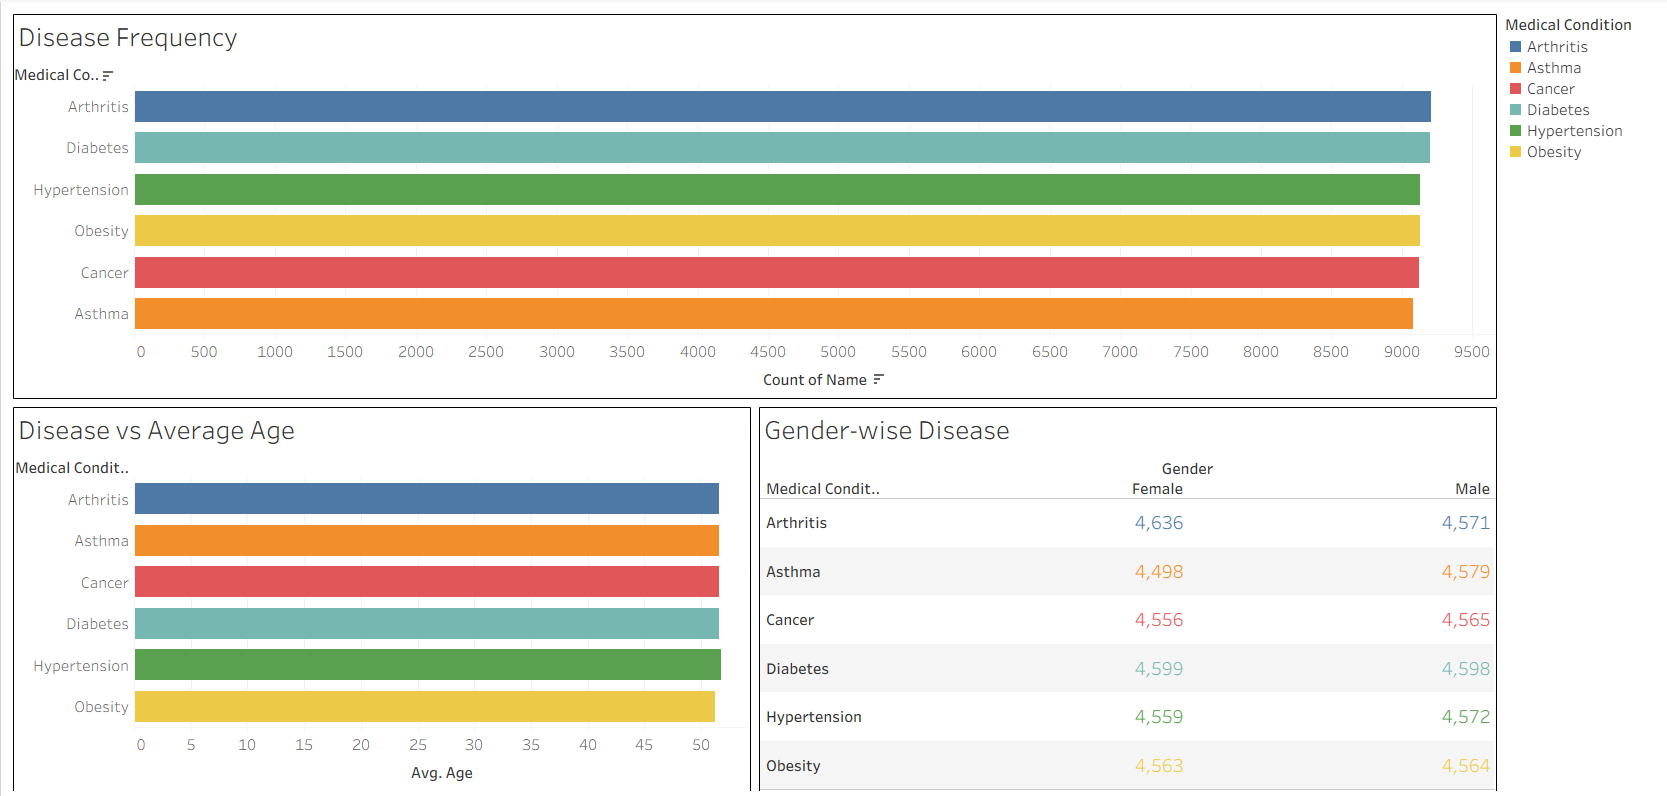

The page's visual inventory and layout, read from the dashboard file:
{"tool":"tableau","page":{"name":"Disease Analysis Dashboard","canvas":[1000,1000],"units":"permille","ordinal":1},"visuals":[{"type":"worksheet","title":"Disease Frequency","mark":"Automatic","rows":["Medical Condition"],"cols":["Name"],"box":[4.8,10,894.5,490]},{"type":"legend","title":"Disease Frequency","param":"[federated.03pwkqy1fpqkej1cl8zf21kyw86q].[none:Medical Condition:nk]","box":[899.3,10,95.9,194.8]},{"type":"worksheet","title":"Disease vs Average Age","mark":"Automatic","rows":["Medical Condition"],"cols":["Age"],"box":[4.8,500,447.2,490]},{"type":"worksheet","title":"Gender-wise Disease","mark":"Automatic","rows":["Medical Condition"],"cols":["Gender"],"box":[452,500,447.2,490]}]}

Visuals, with their boxes on the dashboard's canvas, which has no fixed pixel size, in thousandths of its width and height (x1, y1, x2, y2). These are canvas units, not pixel positions in the 1667x796 screenshot, which may show the page scaled, cropped or inside an application window:
"Disease Frequency" worksheet: [x1=5, y1=10, x2=899, y2=500]
"Disease Frequency" legend: [x1=899, y1=10, x2=995, y2=205]
"Disease vs Average Age" worksheet: [x1=5, y1=500, x2=452, y2=990]
"Gender-wise Disease" worksheet: [x1=452, y1=500, x2=899, y2=990]
